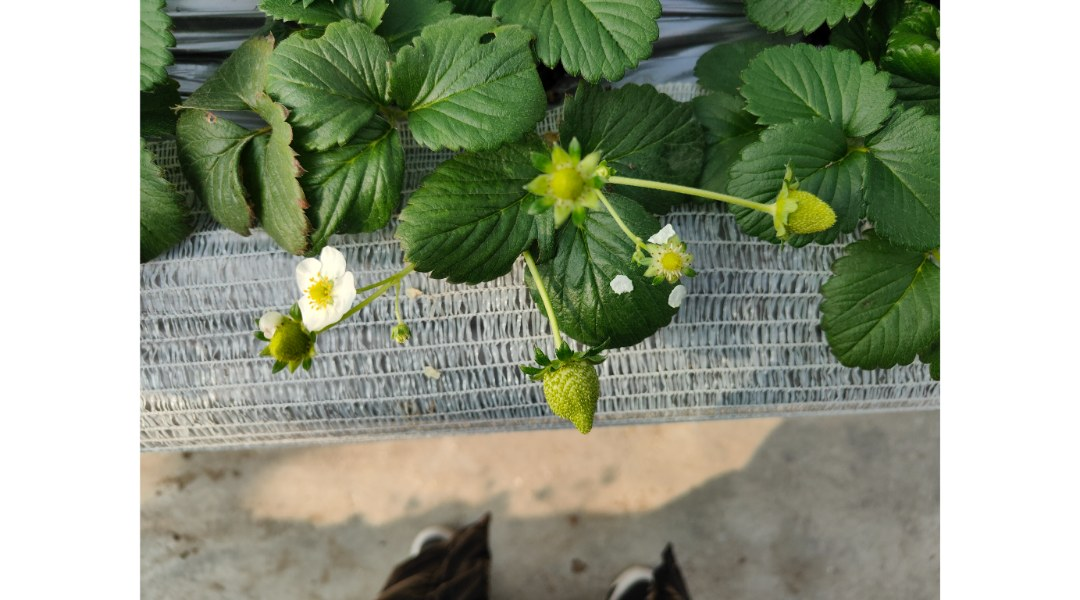berry: (526, 328, 612, 437), (522, 139, 620, 224), (759, 174, 843, 256), (633, 219, 696, 286)
flower: (280, 241, 362, 342)
strain: (597, 171, 780, 225), (521, 258, 569, 360), (598, 196, 648, 249)
